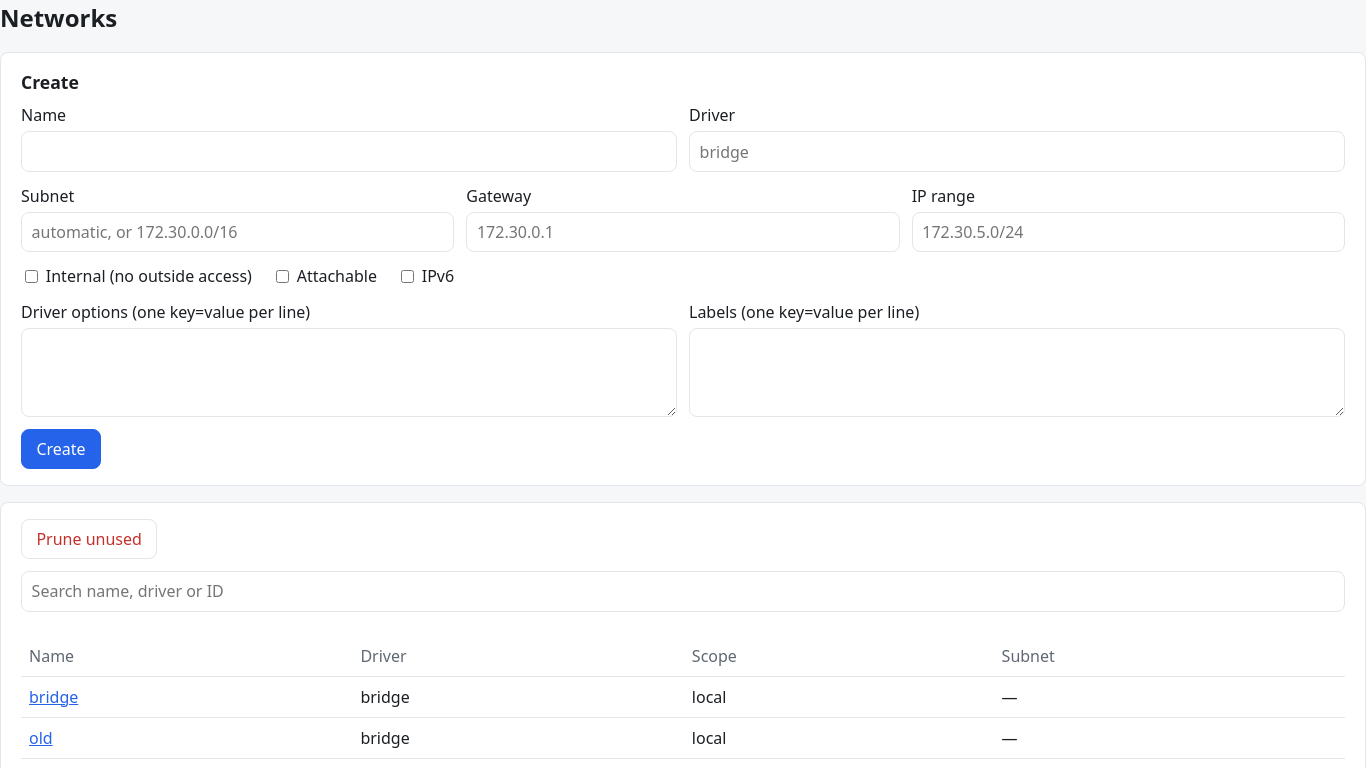
NetworksView › prunes unused networks and reloads the list
The image size is (1366, 768).
Click the button "Prune unused" at (89, 539), box x1=21 y1=519 x2=157 y2=559
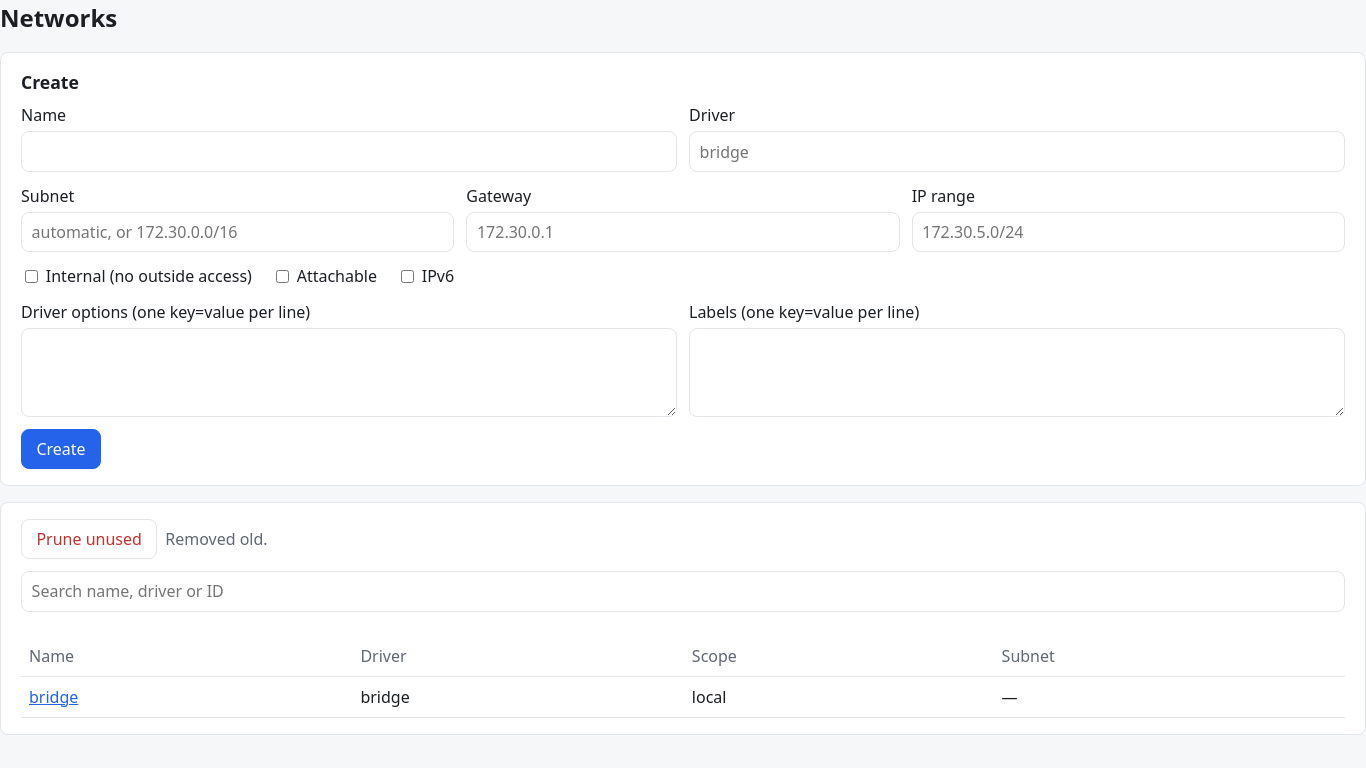
expect the message "Removed old." is shown: met, box x1=165 y1=527 x2=268 y2=551
